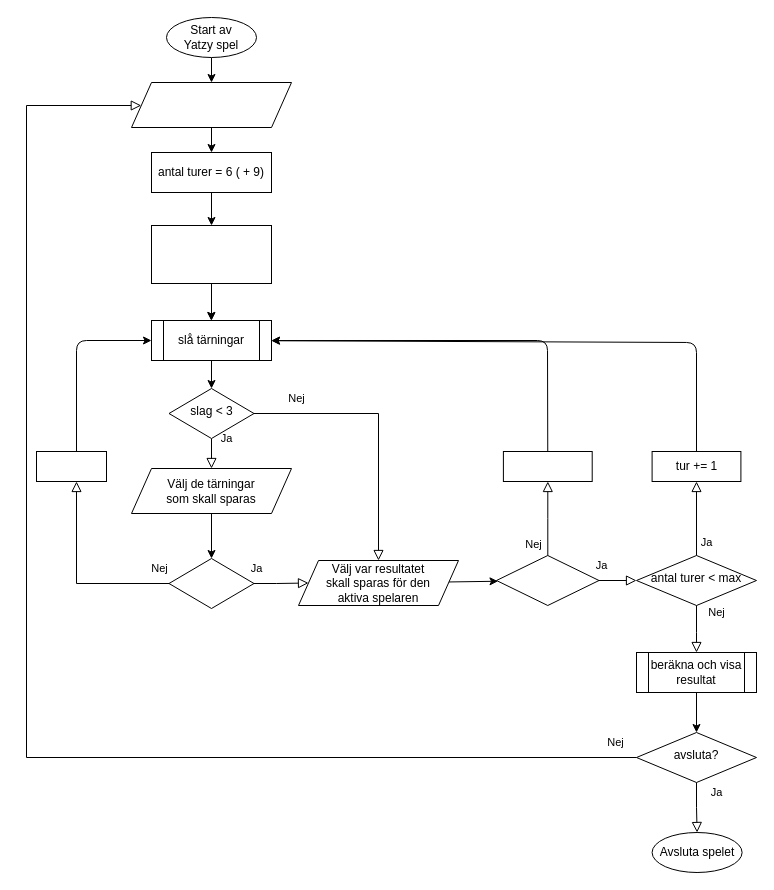
This 774x890 diagram has some shape labels left out. Each missing label, with the centre of its shape:
slag += 1: point (71, 466)
spelare += 1: point (547, 466)
spelare < max: point (547, 580)
spelare = 1, tur = 1, slag = 1: point (211, 254)
stanna?: point (211, 583)
Välj antal spelare (upp till 5): point (211, 105)
